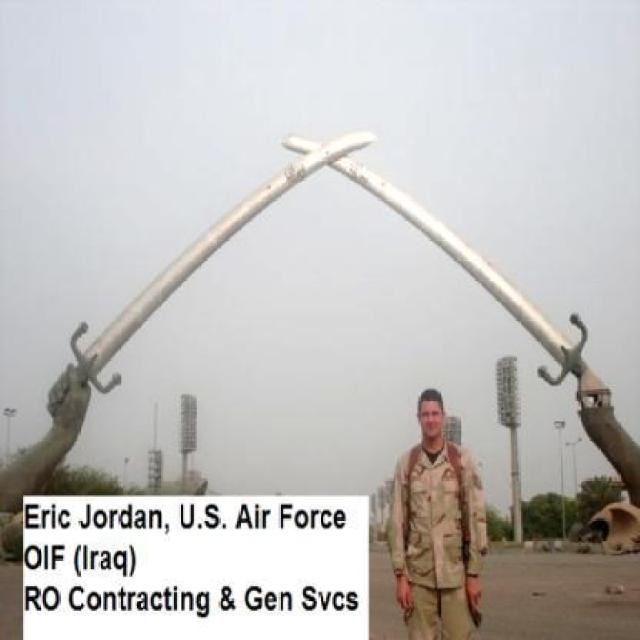Person: (385, 378, 486, 633)
